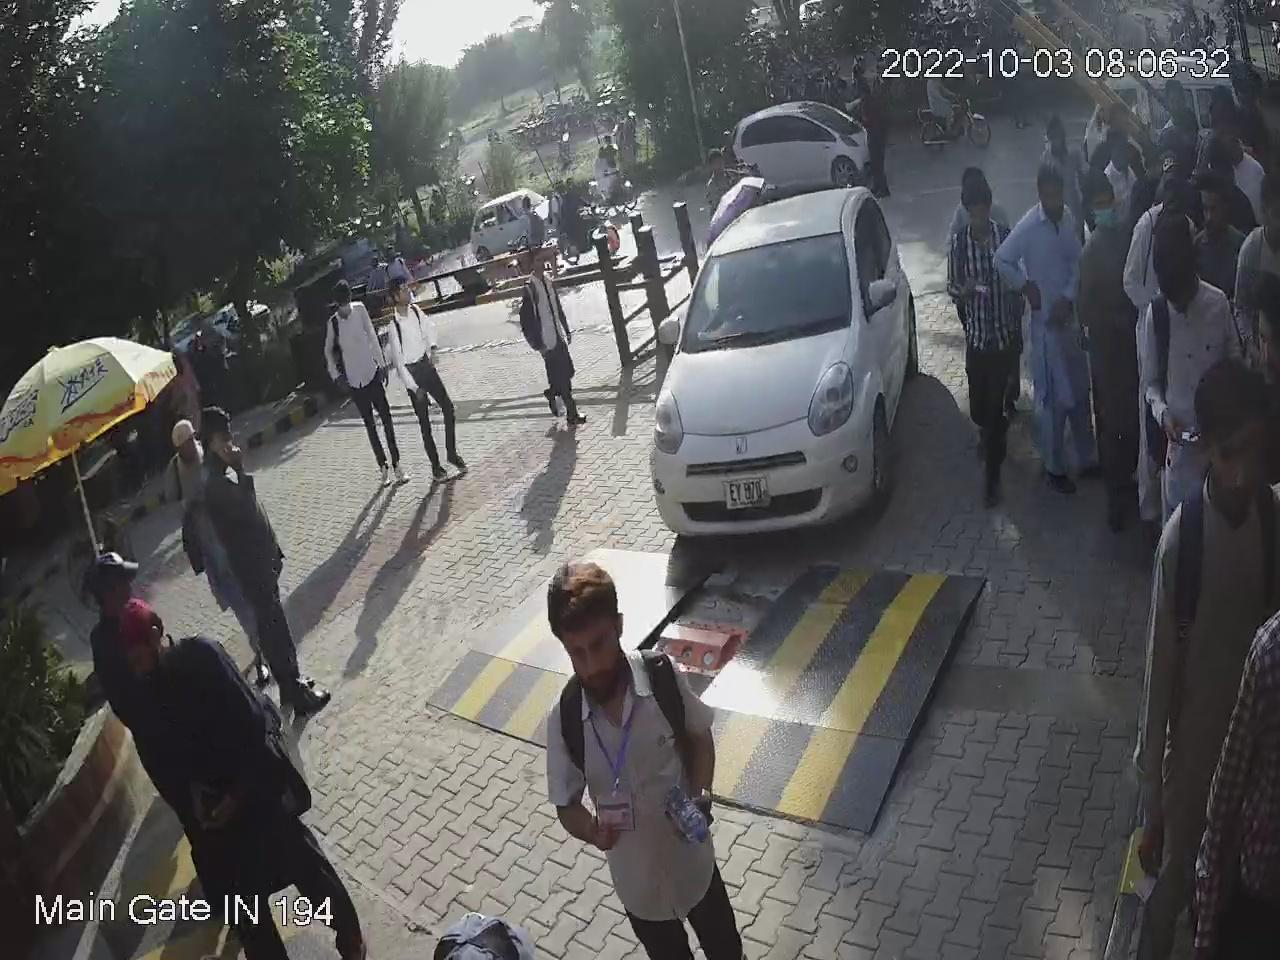windshield: (685, 218, 858, 350)
